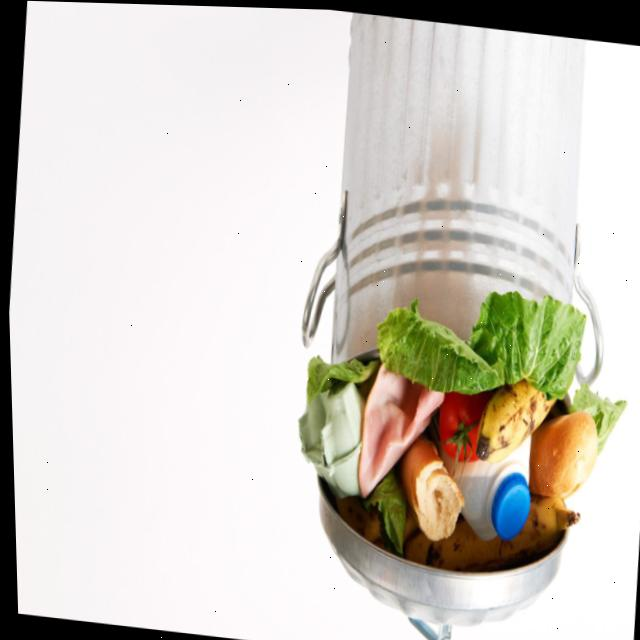Wet: (349, 359, 439, 505), (469, 380, 554, 472), (531, 403, 600, 506), (403, 455, 462, 540)
